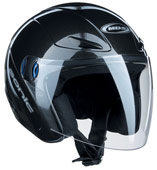helmet: (2, 1, 155, 146)
